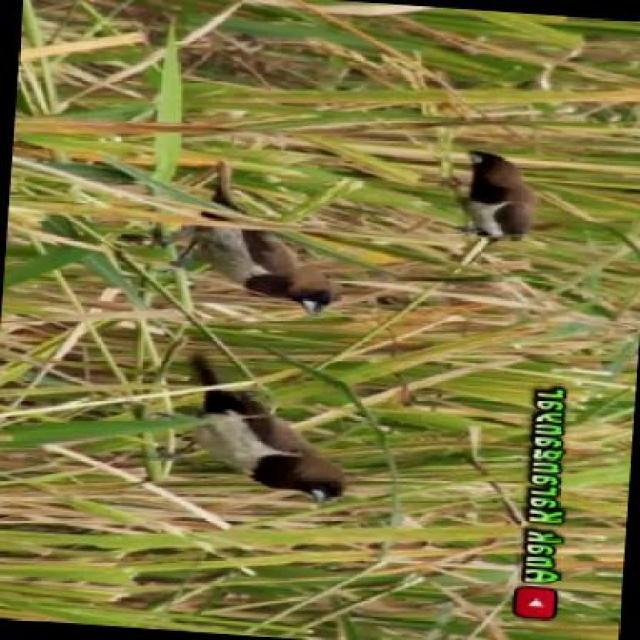Bird: (168, 358, 359, 544), (180, 149, 347, 344), (448, 136, 544, 291)
